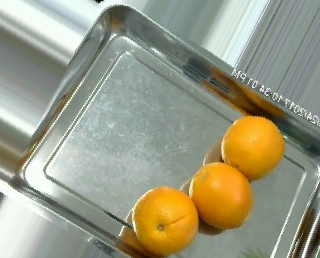Orange: (132, 185, 200, 253), (189, 160, 252, 231), (221, 114, 287, 180)
